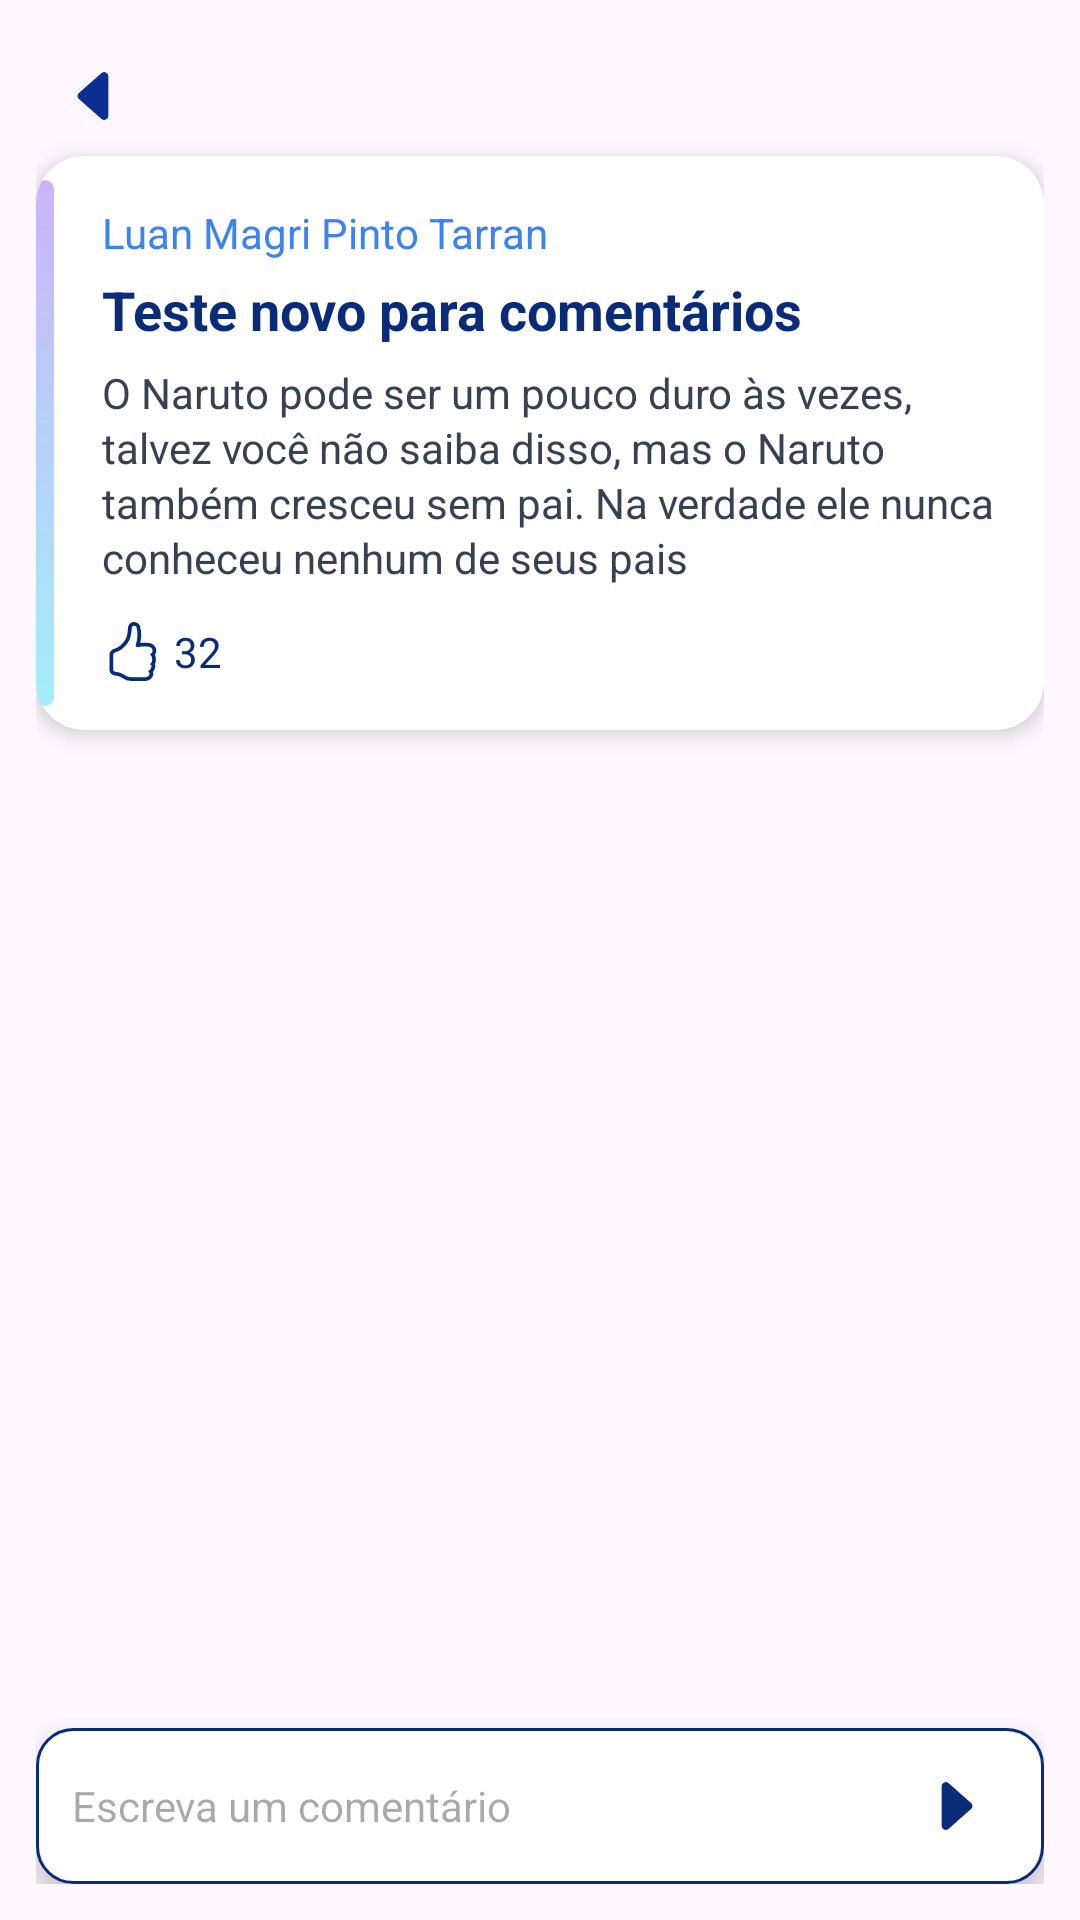

Locate icon controls on the screen. Image size 1080 x 1920, boxes as BBox(x1, y1, x2, y2).
like: BBox(109, 622, 157, 681)
